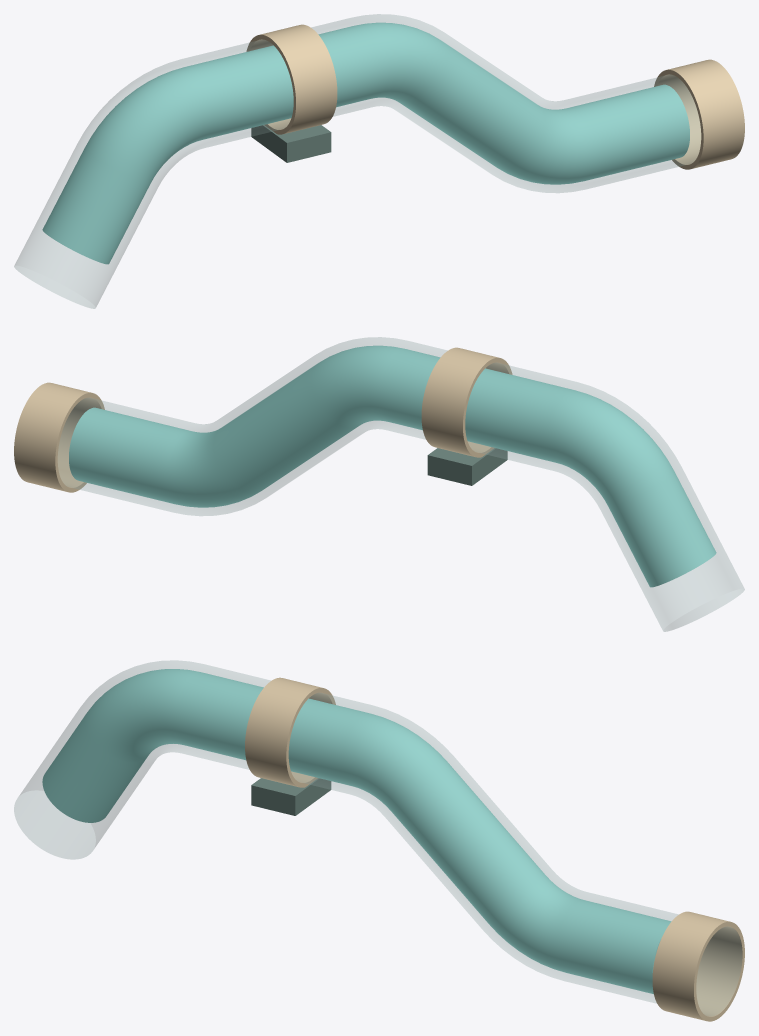
The model's file is Pit_Tube_Rim_Dip.glb.
The picture shows the model from 3 angles, top to bottom: view 1: azimuth 30°, elevation 25°; view 2: azimuth 150°, elevation 25°; view 3: azimuth 330°, elevation 25°; orthographic projection.
Visible parts, largest first — view 1: Pit_Tube_Rim_Dip, Pit_Tube_Rim_Dip_Goo, Pit_Tube_Rim_Dip_Sleeves; view 2: Pit_Tube_Rim_Dip, Pit_Tube_Rim_Dip_Goo, Pit_Tube_Rim_Dip_Sleeves; view 3: Pit_Tube_Rim_Dip, Pit_Tube_Rim_Dip_Goo, Pit_Tube_Rim_Dip_Sleeves.
Boxes of the visible parts, bbox=[...] form: Pit_Tube_Rim_Dip: bbox=[14, 14, 700, 308]; Pit_Tube_Rim_Dip_Goo: bbox=[42, 22, 689, 264]; Pit_Tube_Rim_Dip_Sleeves: bbox=[246, 24, 744, 169]; Pit_Tube_Rim_Dip: bbox=[58, 337, 744, 631]; Pit_Tube_Rim_Dip_Goo: bbox=[69, 345, 716, 587]; Pit_Tube_Rim_Dip_Sleeves: bbox=[14, 347, 512, 492]; Pit_Tube_Rim_Dip: bbox=[14, 660, 741, 1016]; Pit_Tube_Rim_Dip_Goo: bbox=[42, 669, 671, 994]; Pit_Tube_Rim_Dip_Sleeves: bbox=[245, 677, 744, 1021].
Bounding box in the file's own units: 4.73 × 1.47 × 0.6.
